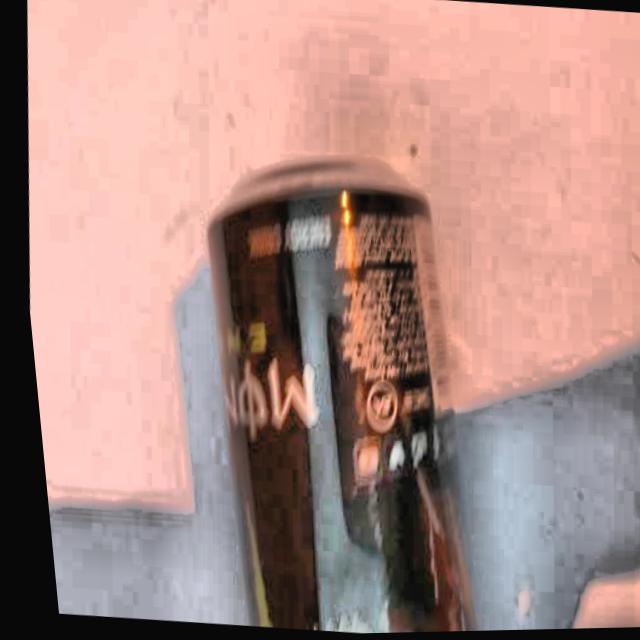Cans: (142, 129, 523, 638)
